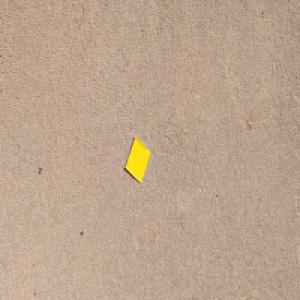PlasticPart: (124, 136, 151, 184)
